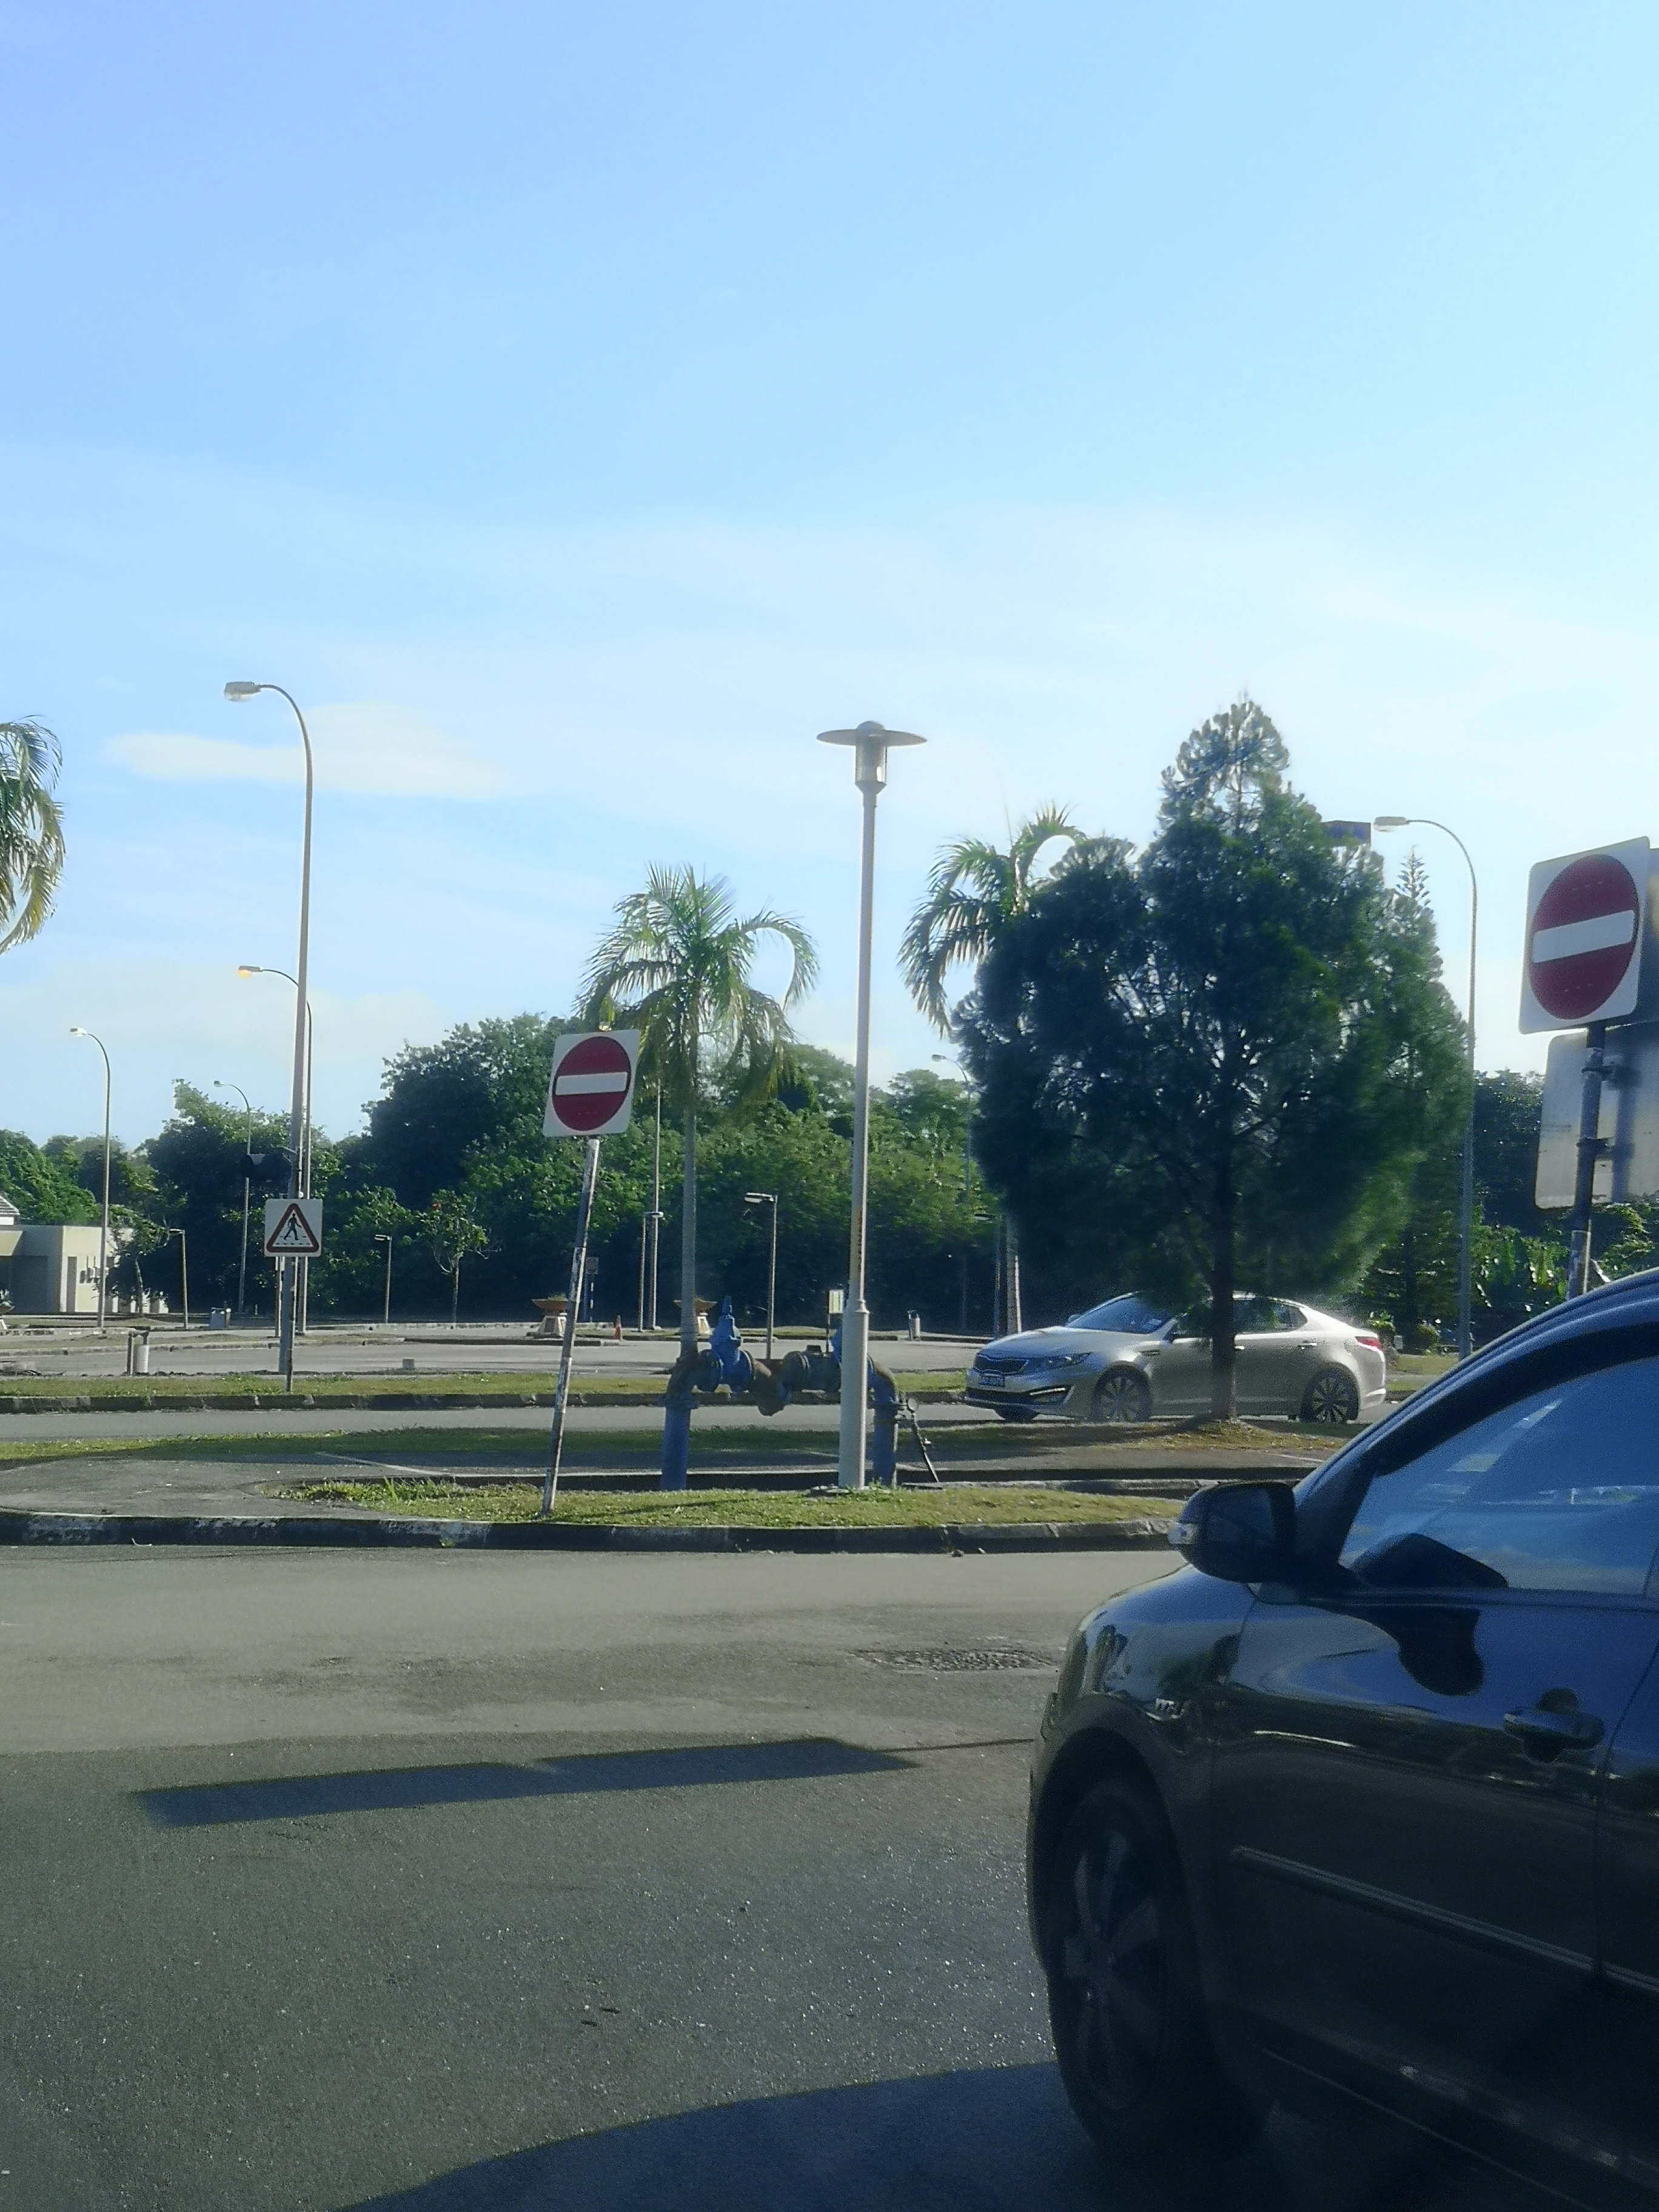no entry: (1521, 853, 1657, 1024), (547, 1031, 634, 1132)
pedestrian crossing: (261, 1197, 321, 1264)
